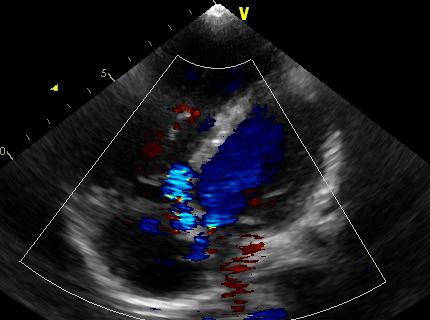TR: (116, 165, 194, 231)
